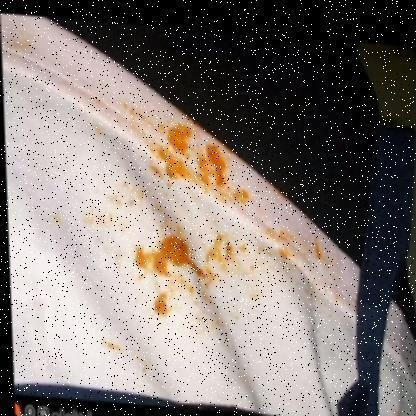kimchi: (137, 221, 209, 279), (186, 283, 232, 336), (50, 204, 122, 229), (215, 235, 255, 278), (213, 181, 259, 209), (160, 122, 192, 158), (200, 149, 227, 189), (159, 155, 192, 185), (146, 289, 176, 318), (110, 189, 144, 205), (272, 230, 293, 246), (312, 239, 324, 264), (104, 344, 125, 357), (280, 252, 294, 264), (246, 291, 259, 300)
